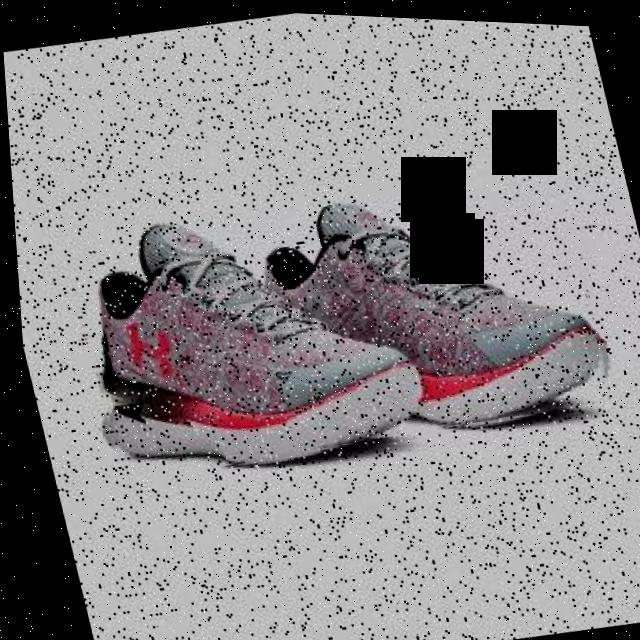shoe: (52, 181, 437, 492), (232, 157, 619, 461)
